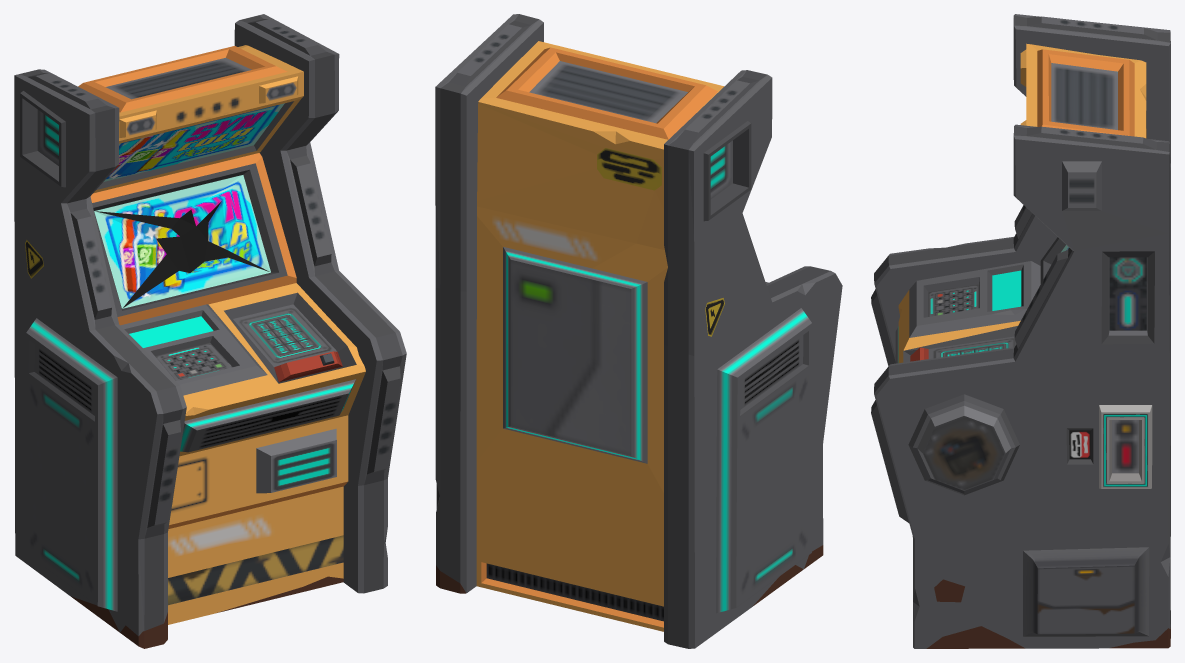
The model's file is SM_Prop_Street_Console_01.fbx.
The picture shows the model from 3 angles, left to right: view 1: azimuth 30°, elevation 25°; view 2: azimuth 150°, elevation 25°; view 3: azimuth 270°, elevation 25°; orthographic projection. The views are drawn at different scales.
Parts seen in each view (by area): view 1: SM_Prop_Street_Console_01; view 2: SM_Prop_Street_Console_01; view 3: SM_Prop_Street_Console_01.
Boxes of the visible parts, x1=… form: SM_Prop_Street_Console_01: x1=14, y1=14, x2=406, y2=648; SM_Prop_Street_Console_01: x1=435, y1=14, x2=842, y2=648; SM_Prop_Street_Console_01: x1=871, y1=14, x2=1170, y2=648.
Size of the model in its own units: 81.8 by 139 by 73.37.
